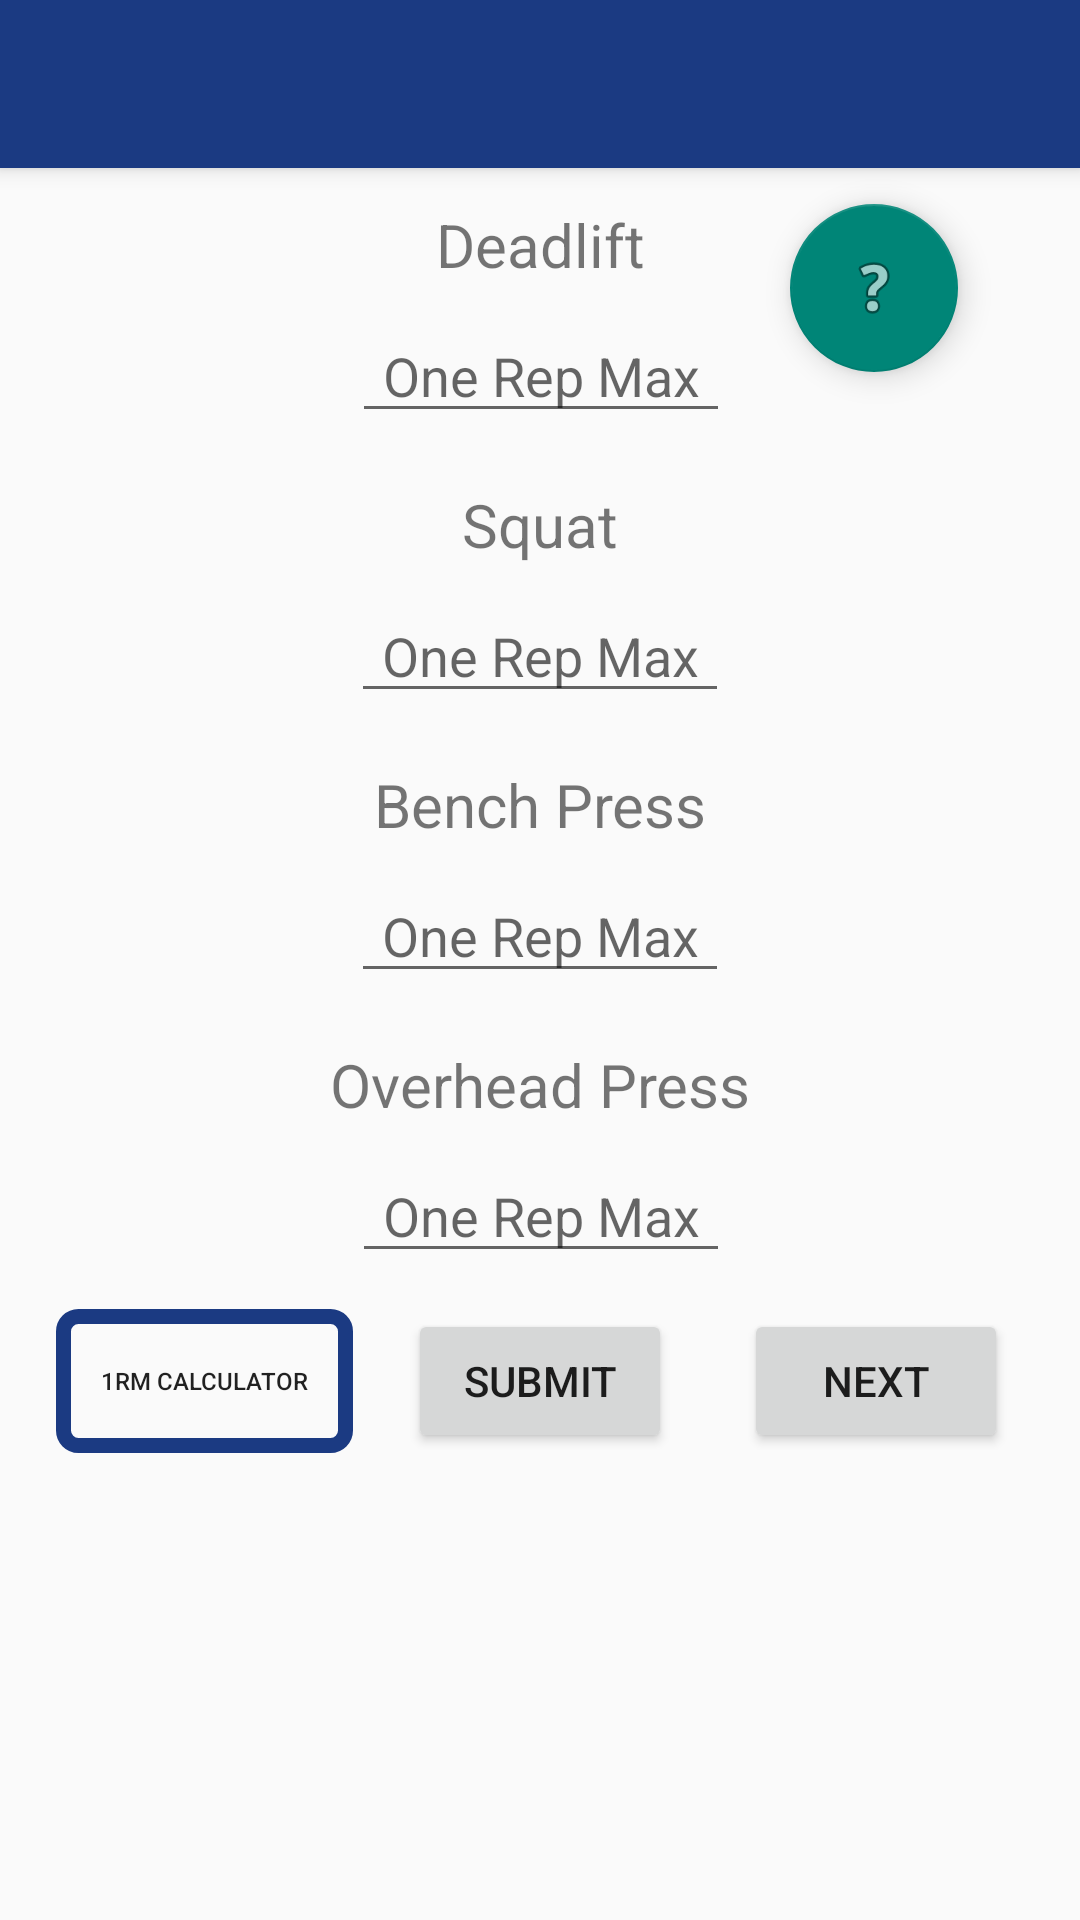

Named icons in this screenshot (1080×1920) and their centers, (x,y):
help: (874,288)
